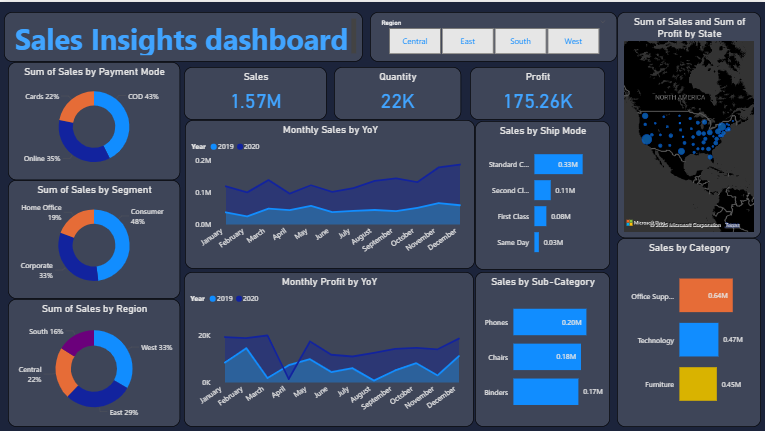

What the dashboard file says about the page in this screenshot:
{"tool":"powerbi","page":{"name":"Page 1","canvas":[1280,720],"ordinal":0},"visuals":[{"type":"clusteredBarChart","title":"Sales by Category","fields":{"Category":["SuperStore_Sales_Dataset (2).Category"],"Y":["Sum(SuperStore_Sales_Dataset (2).Sales)"]},"box":[1030,393.3,240,315],"z":0},{"type":"clusteredBarChart","title":"Sales by Sub-Category","fields":{"Category":["SuperStore_Sales_Dataset (2).Sub-Category"],"Y":["Sum(SuperStore_Sales_Dataset (2).Sales)"]},"box":[793.3,450,225,258.3],"z":1000},{"type":"clusteredBarChart","title":"Sales by Ship Mode","fields":{"Category":["SuperStore_Sales_Dataset (2).Ship Mode"],"Y":["Sum(SuperStore_Sales_Dataset (2).Sales)"]},"box":[793.3,198.3,225,248.3],"z":2000},{"type":"stackedAreaChart","title":"Monthly Sales by YoY","fields":{"Category":["SuperStore_Sales_Dataset (2).Order Date.Variation.Date Hierarchy.Month","SuperStore_Sales_Dataset (2).Order Date.Variation.Date Hierarchy.Day"],"Y":["Sum(SuperStore_Sales_Dataset (2).Sales)"],"Series":["SuperStore_Sales_Dataset (2).Order Date.Variation.Date Hierarchy.Year"]},"box":[310,196.7,483.3,248.3],"z":3000},{"type":"stackedAreaChart","title":"Monthly Profit by YoY","fields":{"Category":["SuperStore_Sales_Dataset (2).Order Date.Variation.Date Hierarchy.Month","SuperStore_Sales_Dataset (2).Order Date.Variation.Date Hierarchy.Day"],"Series":["SuperStore_Sales_Dataset (2).Order Date.Variation.Date Hierarchy.Year"],"Y":["Sum(SuperStore_Sales_Dataset (2).Profit)"]},"box":[308.3,450,483.3,258.3],"z":4000},{"type":"map","fields":{"Category":["SuperStore_Sales_Dataset (2).State"],"Size":["Sum(SuperStore_Sales_Dataset (2).Sales)"]},"box":[1030,16.7,240,376.7],"z":5000},{"type":"donutChart","fields":{"Category":["SuperStore_Sales_Dataset (2).Segment"],"Y":["Sum(SuperStore_Sales_Dataset (2).Sales)"]},"box":[15,296.7,286.7,198.3],"z":6000},{"type":"donutChart","fields":{"Category":["SuperStore_Sales_Dataset (2).Payment Mode"],"Y":["Sum(SuperStore_Sales_Dataset (2).Sales)"]},"box":[15,100,286.7,196.7],"z":7000},{"type":"slicer","fields":{"Values":["SuperStore_Sales_Dataset (2).Region"]},"box":[618.3,16.7,411.7,83.3],"z":8000},{"type":"textbox","box":[8.3,16.7,598.3,83.3],"z":9000},{"type":"card","title":"Sales","fields":{"Values":["Sum(SuperStore_Sales_Dataset (2).Sales)"]},"box":[308.3,108.3,238.3,88.3],"z":10000},{"type":"card","title":"Quantity","fields":{"Values":["Sum(SuperStore_Sales_Dataset (2).Quantity)"]},"box":[558.3,108.3,211.7,88.3],"z":11000},{"type":"card","title":"Profit","fields":{"Values":["Sum(SuperStore_Sales_Dataset (2).Profit)"]},"box":[785,108.3,225,88.3],"z":12000},{"type":"donutChart","fields":{"Category":["SuperStore_Sales_Dataset (2).Region"],"Y":["Sum(SuperStore_Sales_Dataset (2).Sales)"]},"box":[15,495,286.7,213.3],"z":13000}]}

Visuals, with their boxes in screenshot pixels (x1, y1, x2, y2), scaled from the page's 1280x720 canvas onto the 765x431 screenshot:
"Sales by Category" clusteredBarChart: 616/235/759/424
"Sales by Sub-Category" clusteredBarChart: 474/269/609/424
"Sales by Ship Mode" clusteredBarChart: 474/119/609/267
"Monthly Sales by YoY" stackedAreaChart: 185/118/474/266
"Monthly Profit by YoY" stackedAreaChart: 184/269/473/424
map - SuperStore_Sales_Dataset (2).State x Sum(SuperStore_Sales_Dataset (2).Sales): 616/10/759/235
donutChart - SuperStore_Sales_Dataset (2).Segment x Sum(SuperStore_Sales_Dataset (2).Sales): 9/178/180/296
donutChart - SuperStore_Sales_Dataset (2).Payment Mode x Sum(SuperStore_Sales_Dataset (2).Sales): 9/60/180/178
slicer - SuperStore_Sales_Dataset (2).Region: 370/10/616/60
textbox: 5/10/363/60
"Sales" card: 184/65/327/118
"Quantity" card: 334/65/460/118
"Profit" card: 469/65/604/118
donutChart - SuperStore_Sales_Dataset (2).Region x Sum(SuperStore_Sales_Dataset (2).Sales): 9/296/180/424
